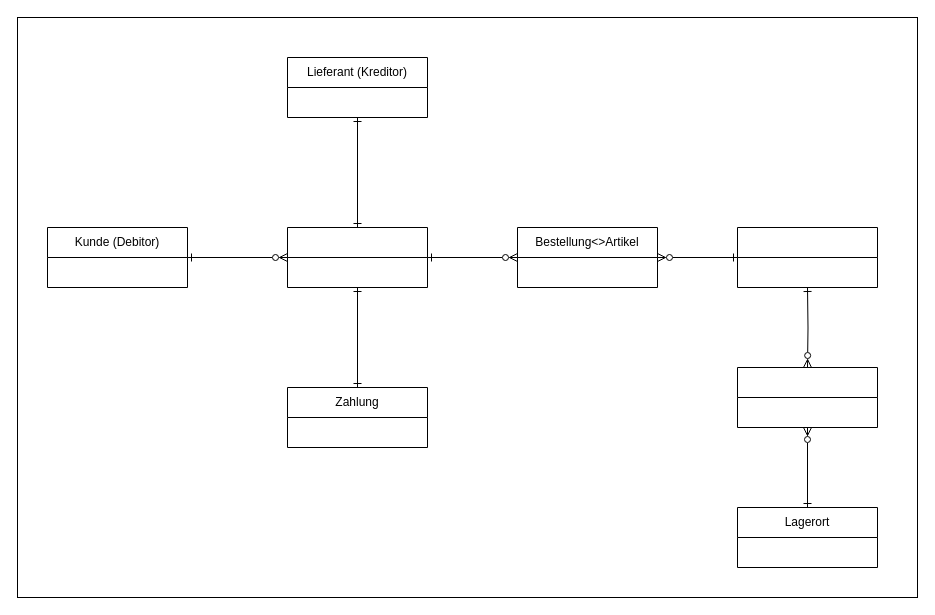
Some shapes in this 935 by 615 pixel diagram are drawn without their labels. The shapes that lost their labels are listed below. From the top down, each one's centre as x and y in pixels, then its label:
the point at 357,257: Bestellung
the point at 807,257: Artikel
the point at 807,397: Artikel<>Lager
